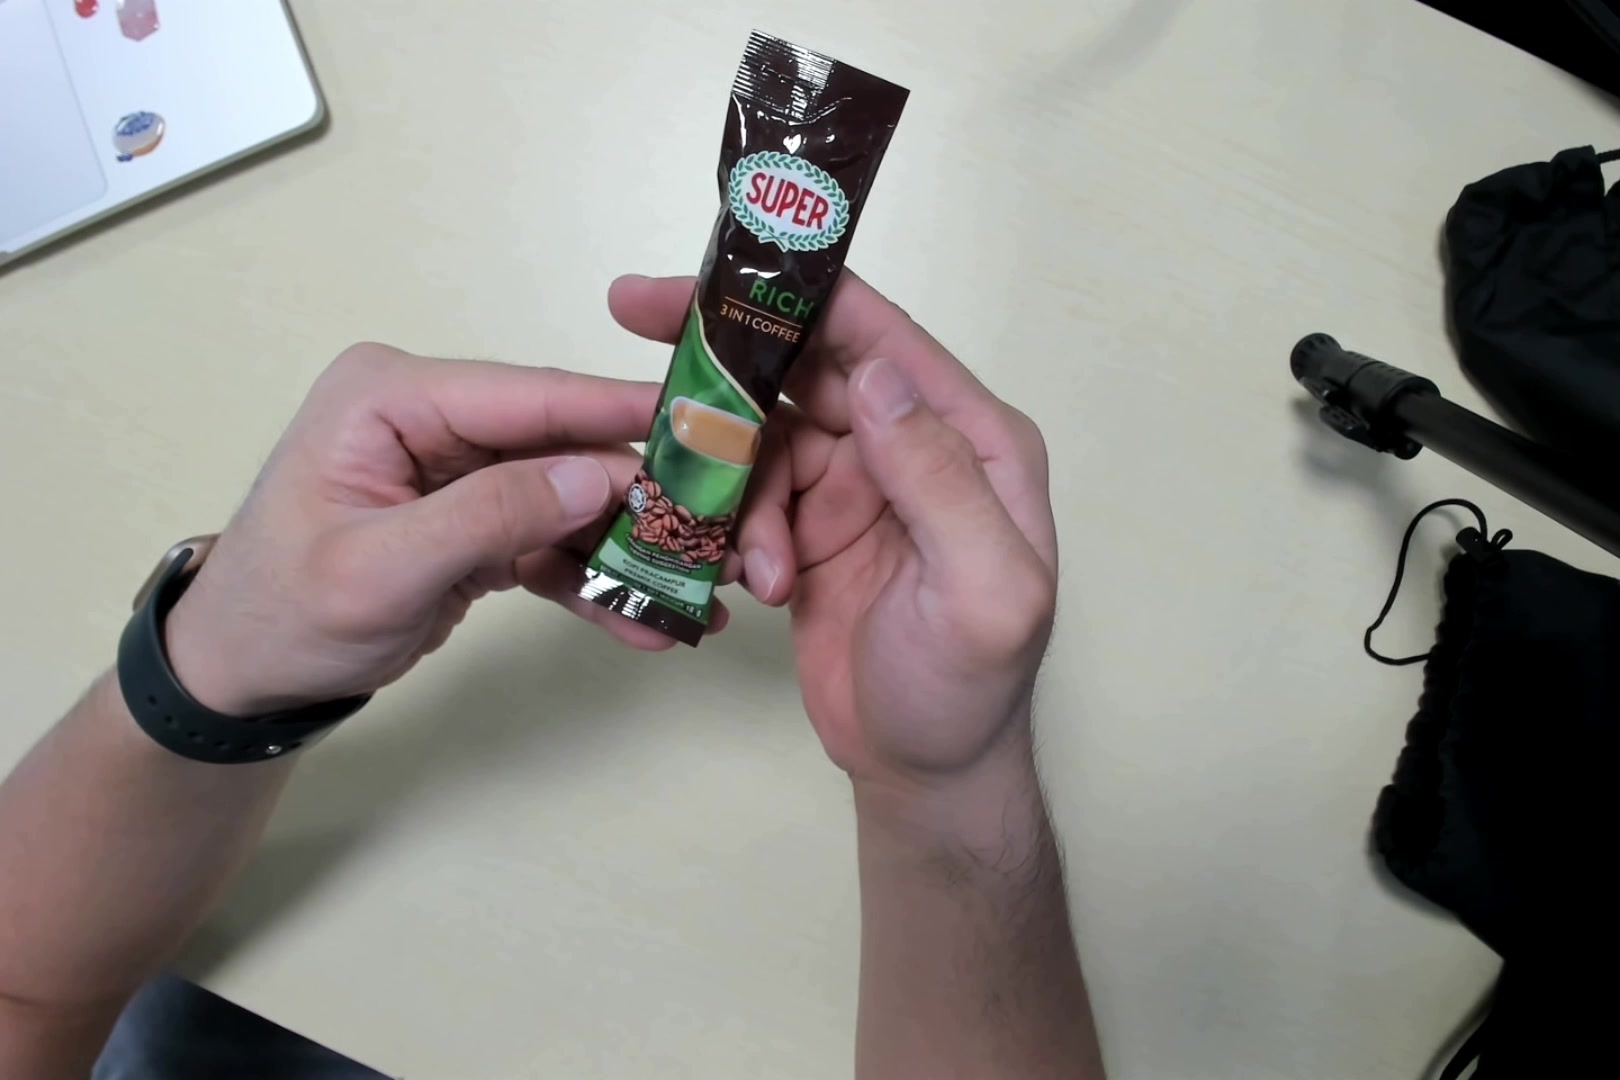Coffee(Powder)_0-99g_Halal_NonHealthy: (568, 36, 908, 652)
